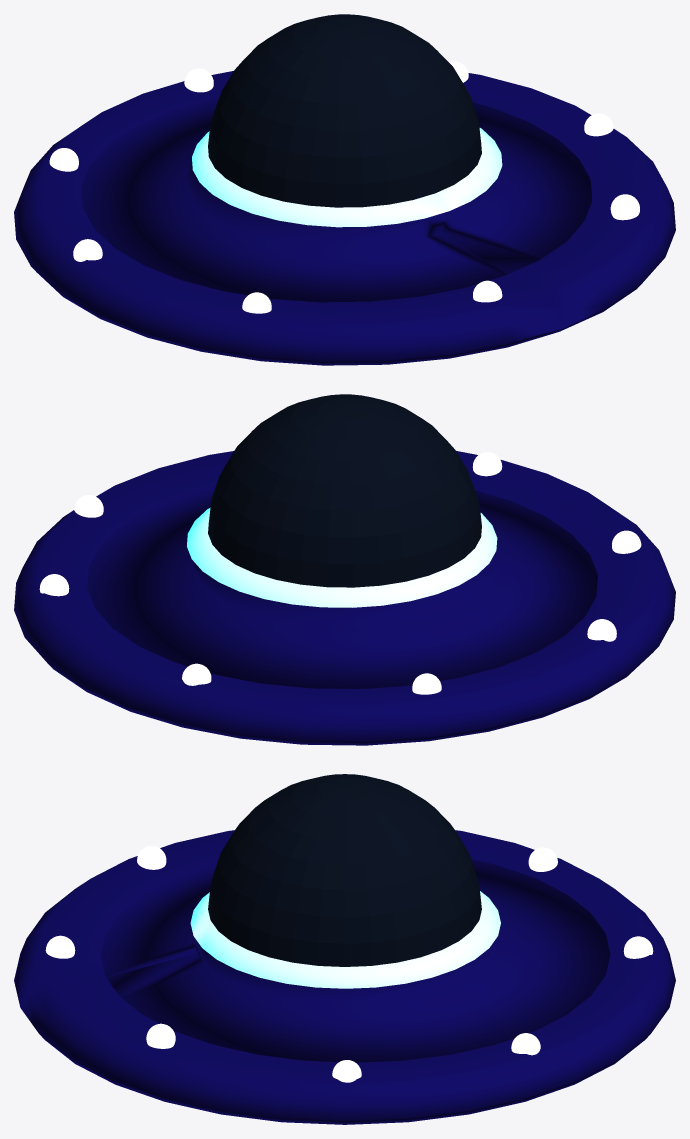
File: ufo.gltf
3 renders of one model, top to bottom at view 1: azimuth 30°, elevation 25°; view 2: azimuth 150°, elevation 25°; view 3: azimuth 270°, elevation 25°, orthographic.
Parts seen in each view (by area): view 1: body, glass, Sphere.002, Sphere.005, Sphere.006, Sphere.007, Sphere.009, Sphere, Sphere.008; view 2: body, glass, Sphere, Sphere.008, Sphere.007, Sphere.009, Sphere.004, Sphere.005, Sphere.006; view 3: body, glass, Sphere.002, Sphere.006, Sphere.008, Sphere, Sphere.005, Sphere.004, Sphere.009.
Boxes of the visible parts, bbox=[...] form: body: bbox=[14, 71, 675, 365]; glass: bbox=[208, 14, 481, 207]; Sphere.002: bbox=[610, 194, 639, 220]; Sphere.005: bbox=[184, 68, 213, 92]; Sphere.006: bbox=[49, 148, 78, 171]; Sphere.007: bbox=[73, 239, 102, 261]; Sphere.009: bbox=[584, 113, 613, 136]; Sphere: bbox=[473, 280, 502, 302]; Sphere.008: bbox=[242, 292, 271, 313]; body: bbox=[14, 451, 675, 745]; glass: bbox=[208, 394, 481, 587]; Sphere: bbox=[472, 452, 502, 476]; Sphere.008: bbox=[612, 530, 641, 553]; Sphere.007: bbox=[587, 619, 616, 641]; Sphere.009: bbox=[74, 495, 103, 517]; Sphere.004: bbox=[39, 574, 69, 596]; Sphere.005: bbox=[182, 663, 211, 685]; Sphere.006: bbox=[412, 673, 441, 694]; body: bbox=[14, 830, 675, 1124]; glass: bbox=[208, 774, 481, 966]; Sphere.002: bbox=[146, 1023, 175, 1048]; Sphere.006: bbox=[528, 847, 557, 871]; Sphere.008: bbox=[137, 845, 166, 869]; Sphere: bbox=[45, 935, 75, 958]; Sphere.005: bbox=[623, 936, 653, 958]; Sphere.004: bbox=[511, 1033, 540, 1055]; Sphere.009: bbox=[332, 1060, 361, 1082].
Size of the model in its own units: 41.44 by 13.88 by 41.44.
